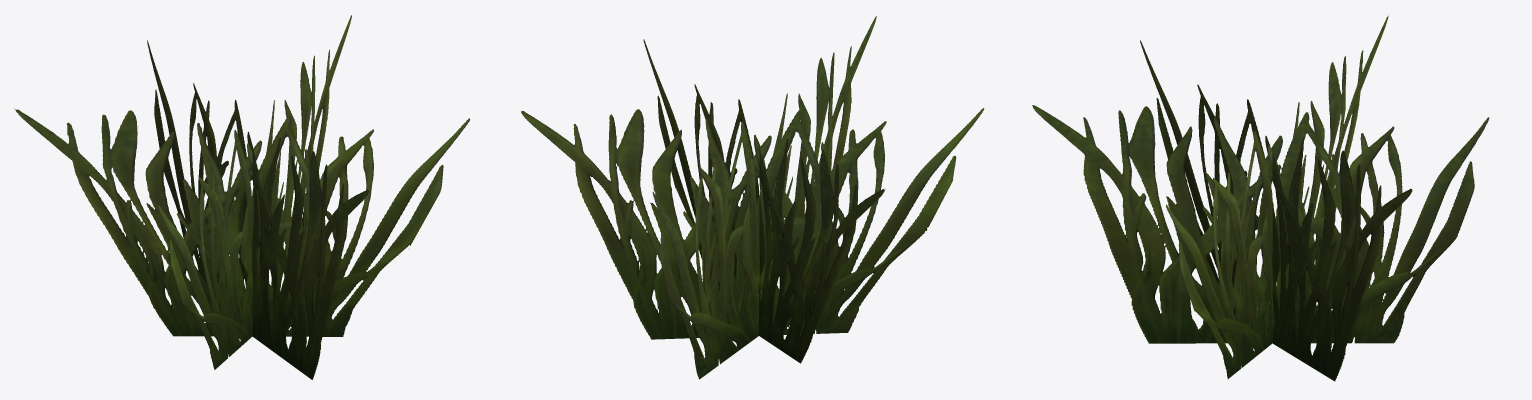
File: fanasty_mod_grass01.fbx
The picture shows the model from 3 angles, left to right: view 1: azimuth 30°, elevation 25°; view 2: azimuth 150°, elevation 25°; view 3: azimuth 270°, elevation 25°; orthographic projection. The views are drawn at different scales.
Visible parts, largest first — view 1: grass_01; view 2: grass_01; view 3: grass_01.
Boxes of the visible parts, box(x1,y1,x2,y2) form: grass_01: box(14, 15, 469, 379); grass_01: box(521, 16, 984, 379); grass_01: box(1032, 14, 1489, 381).
Size of the model in its own units: 1.76 by 1.08 by 2.
